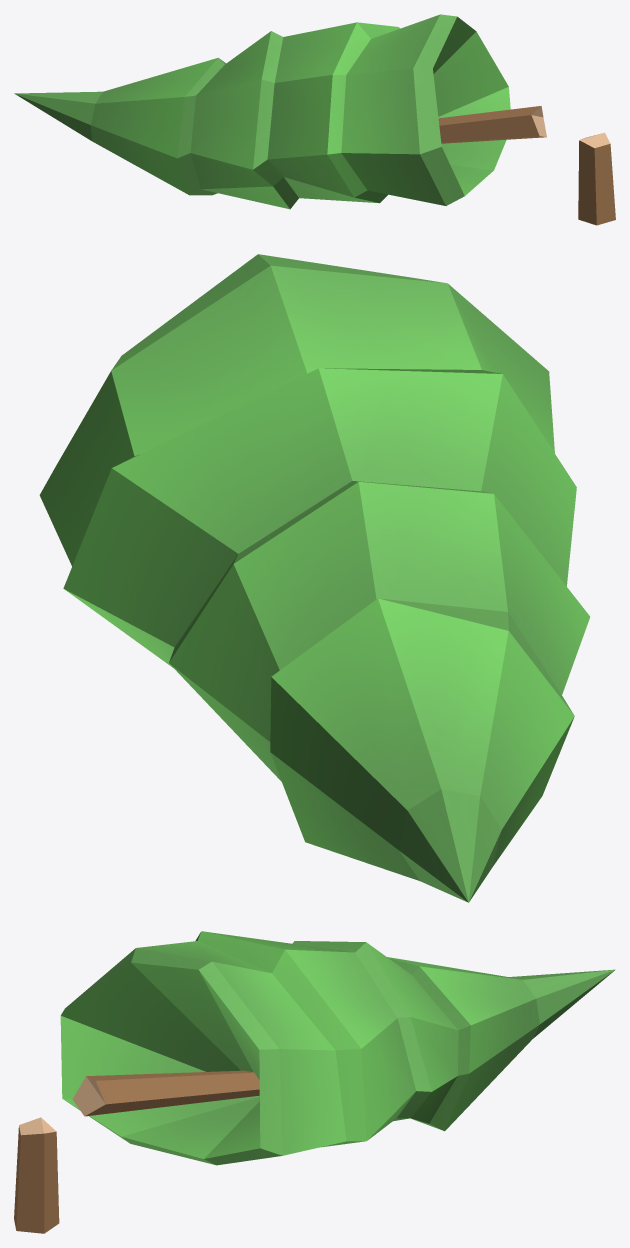
Rendered from Fir_Tree_crk_m_02.fbx.
The picture shows the model from 3 angles, top to bottom: view 1: azimuth 30°, elevation 25°; view 2: azimuth 150°, elevation 25°; view 3: azimuth 270°, elevation 25°; orthographic projection. The views are drawn at different scales.
Parts seen in each view (by area): view 1: Fir_Tree_crk_m_02; view 2: Fir_Tree_crk_m_02; view 3: Fir_Tree_crk_m_02.
Boxes of the visible parts, bbox=[...] form: Fir_Tree_crk_m_02: bbox=[14, 14, 615, 225]; Fir_Tree_crk_m_02: bbox=[39, 254, 589, 902]; Fir_Tree_crk_m_02: bbox=[14, 931, 615, 1233].
Size of the model in its own units: 516 by 267 by 598.
